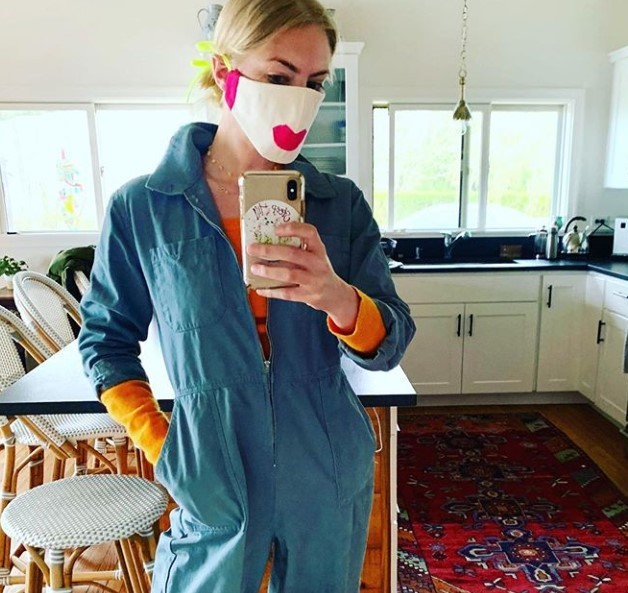face_with_mask: (202, 0, 348, 169)
